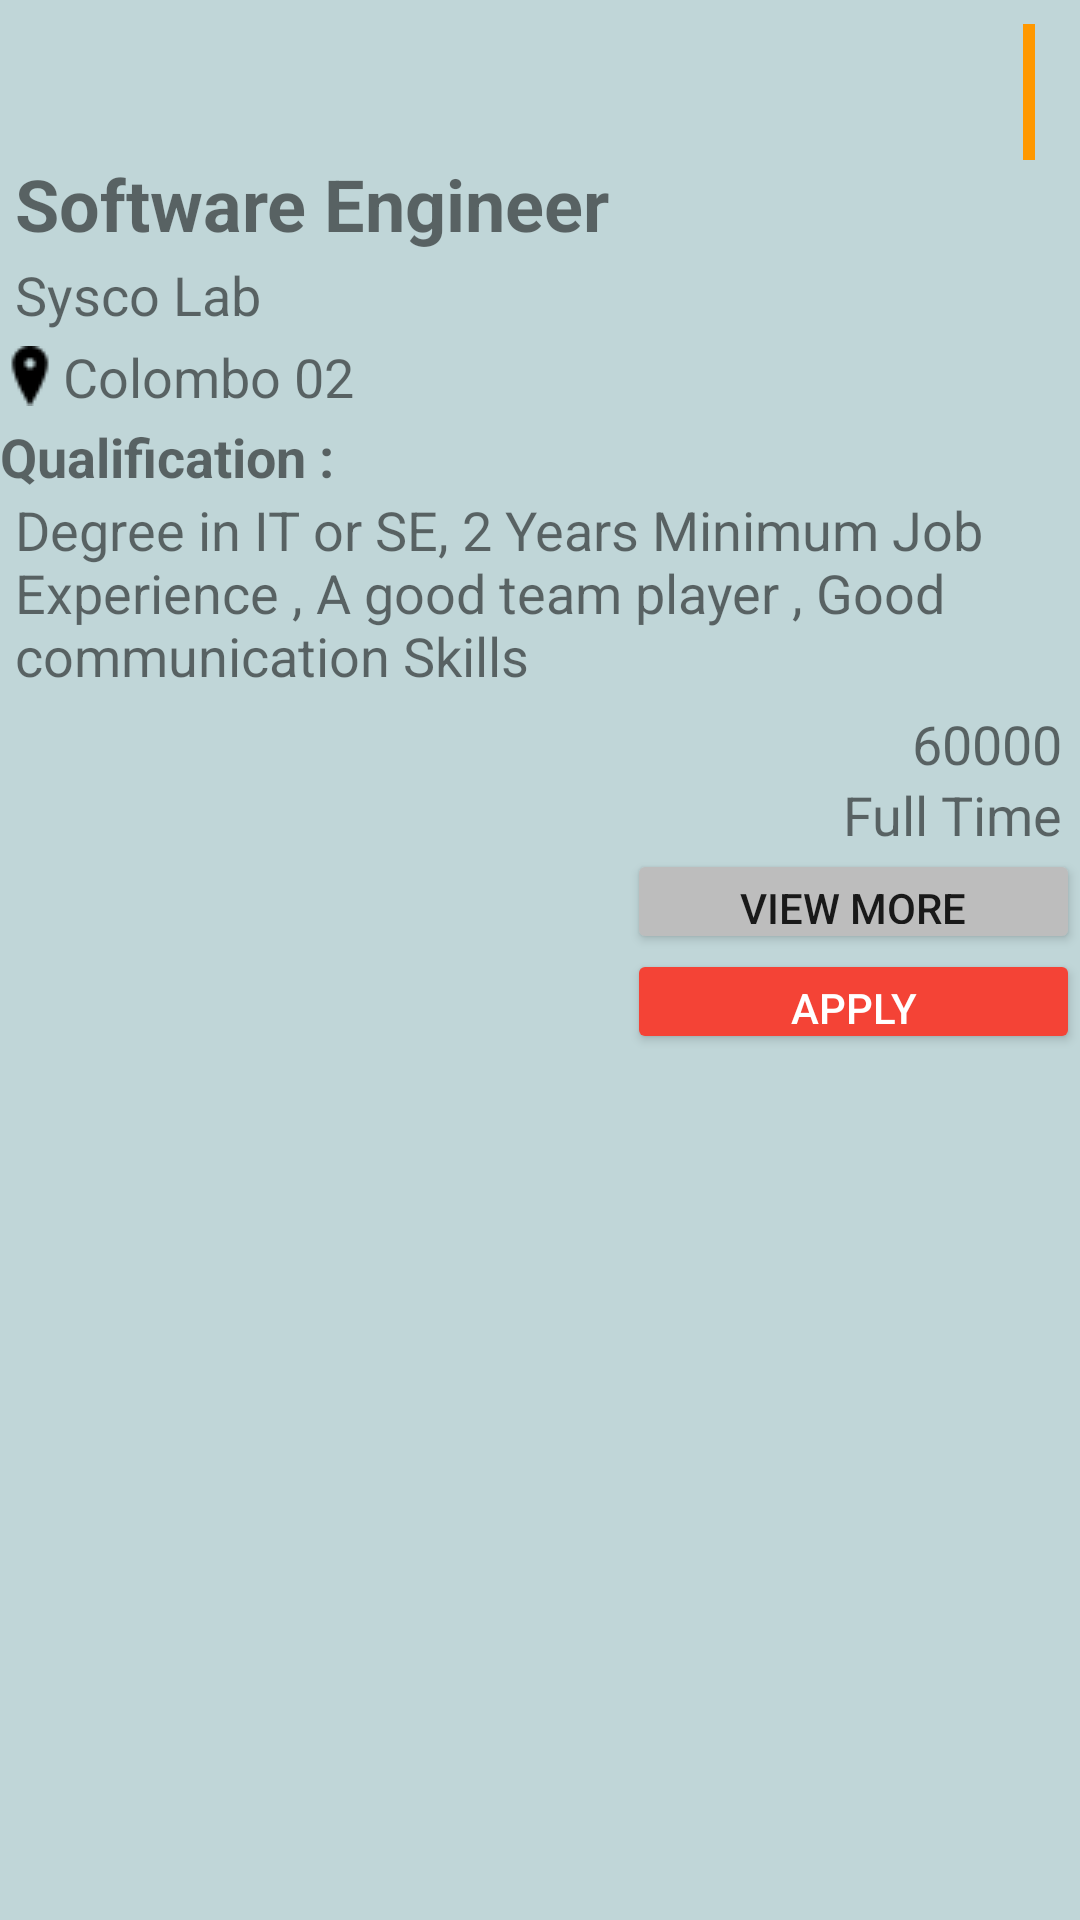

Screen size 1080px×1920px. Icon name, then its box in pixels as region(x1, y1, x2, y2):
location: region(11, 346, 49, 406)
